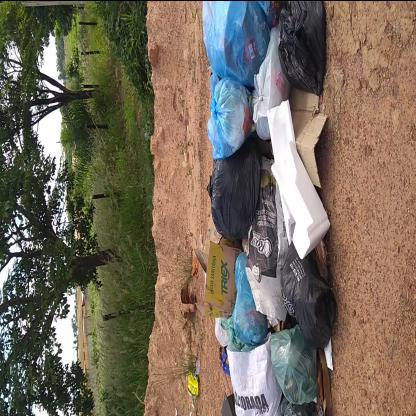lixo: (212, 0, 320, 413)
